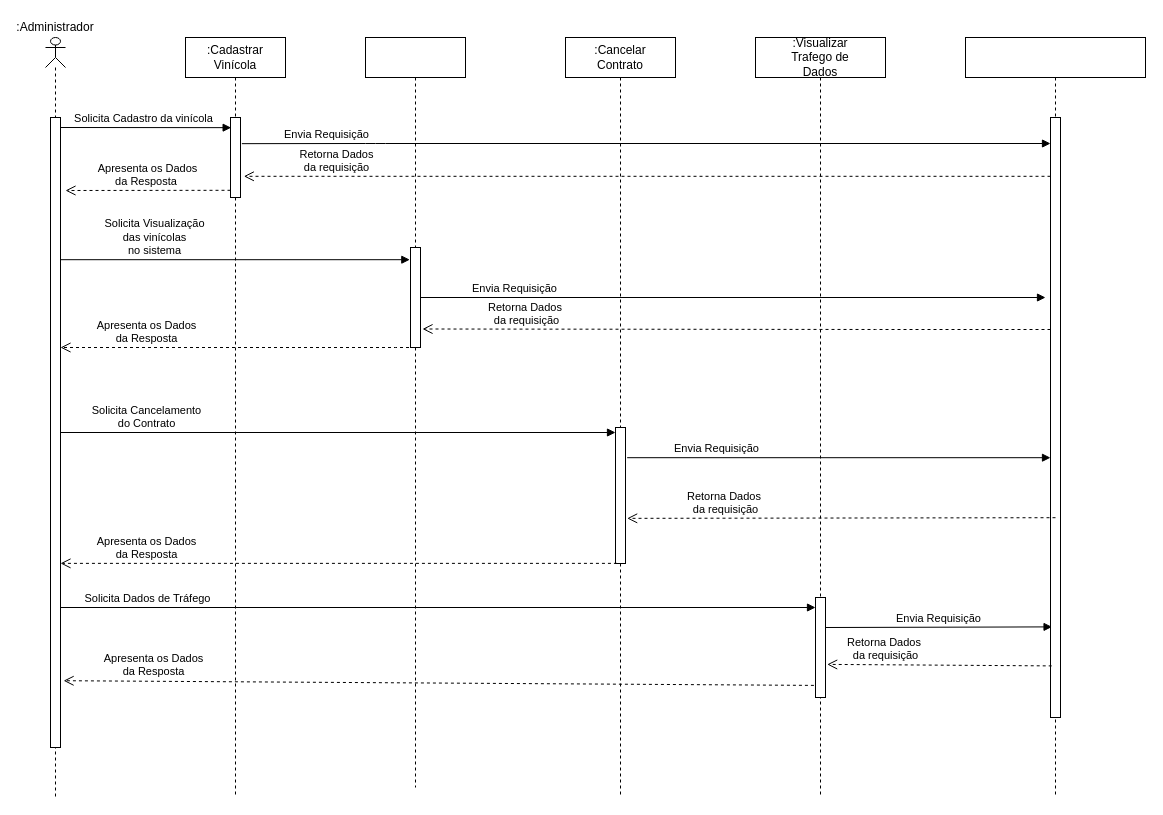
The diagram is 1163 pixels wide and 815 high, and some of its shapes have lost their labels. The box of each missing label's shape, as (x1, y1, x2, y2) in pixels:
:Microservice gerenciamento vinícola: (964, 36, 1146, 798)
:Visualizar Vinícolas Cadastradas: (364, 36, 466, 788)
